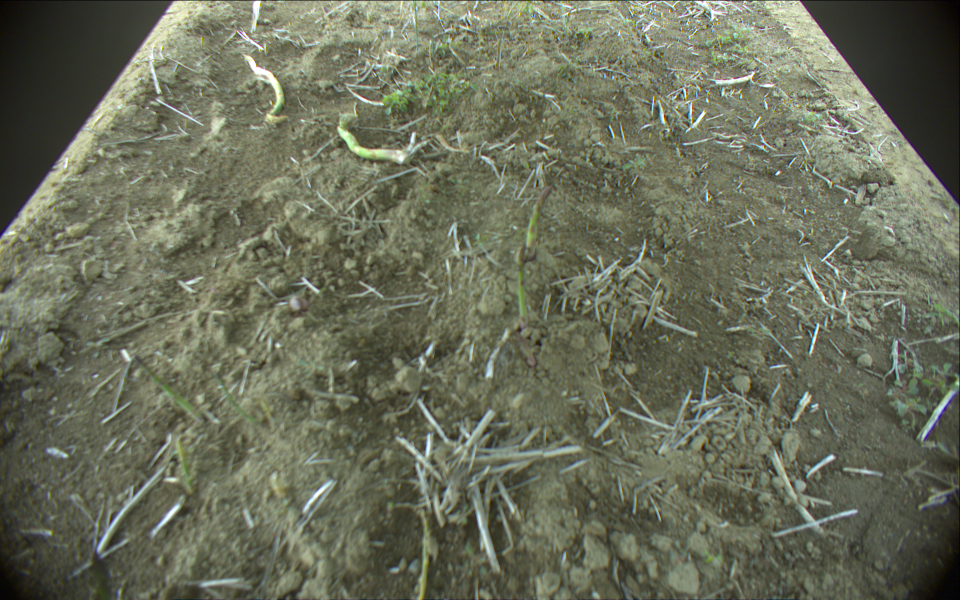aspa: (131, 356, 204, 424), (335, 111, 416, 164), (243, 53, 290, 126), (217, 372, 257, 430), (525, 184, 554, 259), (516, 245, 531, 329), (174, 435, 194, 498)
